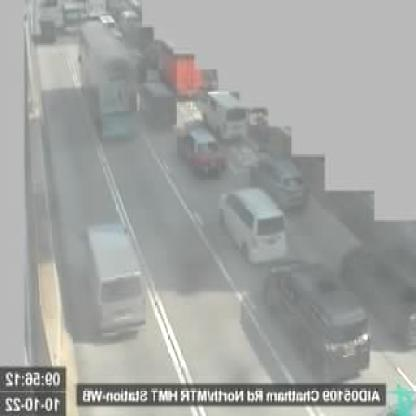Bus: (77, 26, 142, 144)
Car: (262, 253, 372, 384), (76, 224, 148, 340), (340, 242, 415, 345), (218, 186, 288, 269), (248, 151, 312, 211), (176, 122, 230, 183), (199, 87, 250, 144), (140, 75, 177, 128), (38, 1, 63, 42)
Truck: (158, 31, 204, 95)
